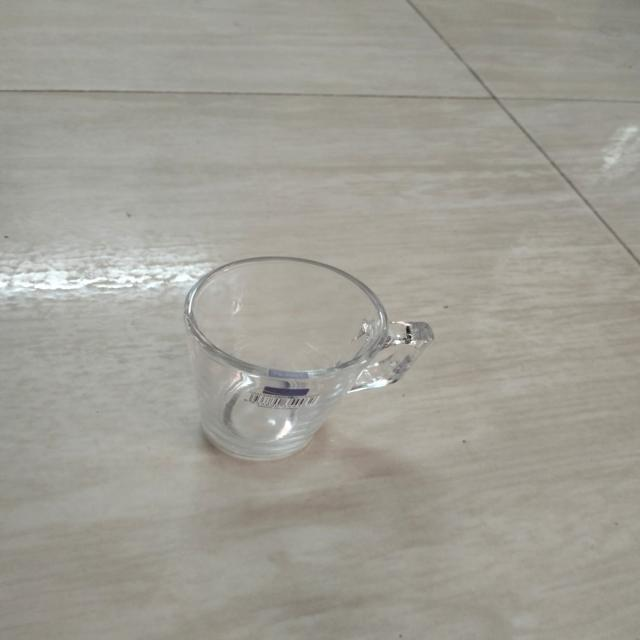glass-VX4N: (182, 255, 434, 464)
